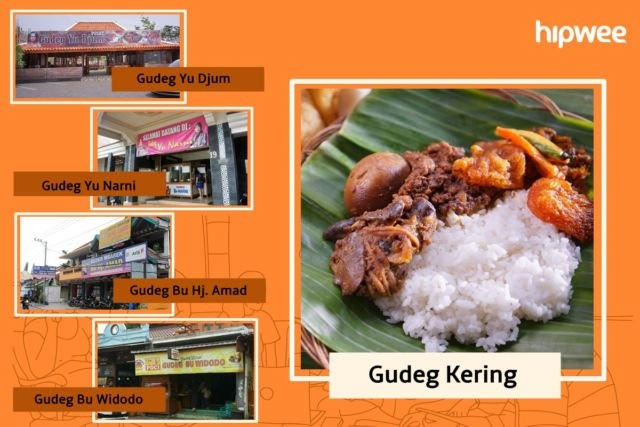gudeg: (326, 127, 593, 319)
